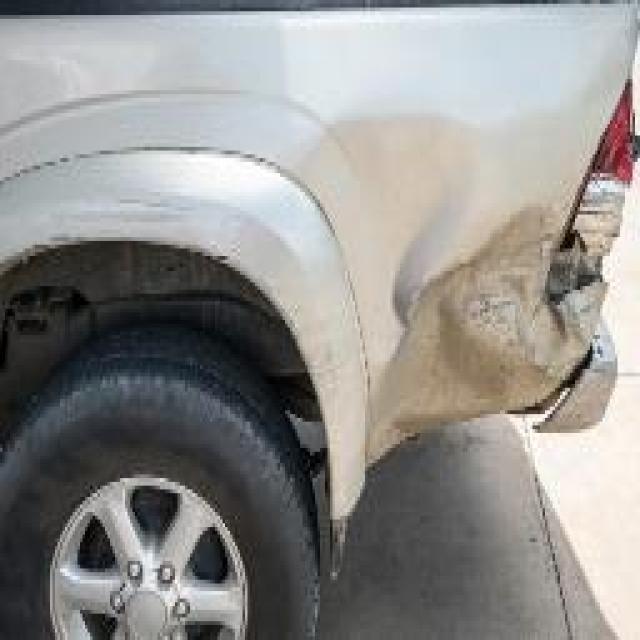Fender: (314, 121, 607, 430)
Light: (557, 78, 640, 282)
